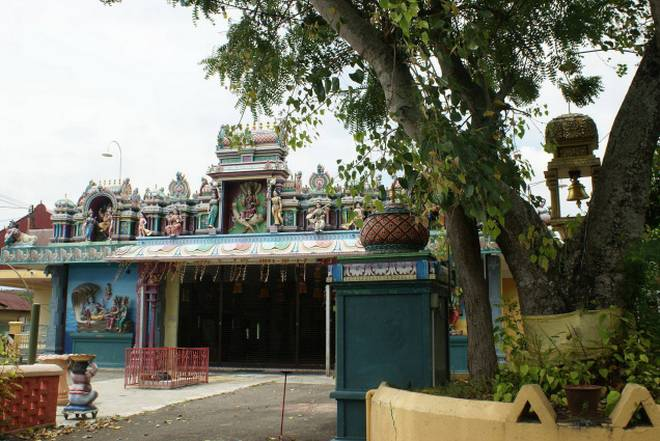Hindu Temple: (32, 123, 336, 360)
